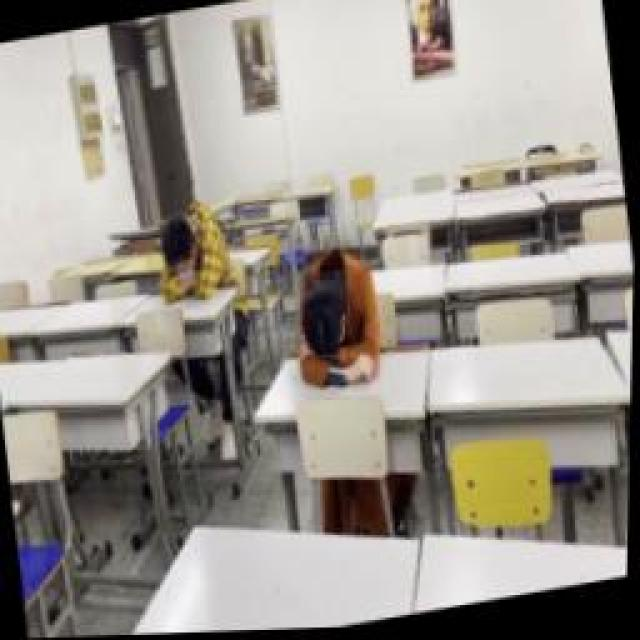sleep: (282, 240, 388, 395), (150, 198, 235, 302)
